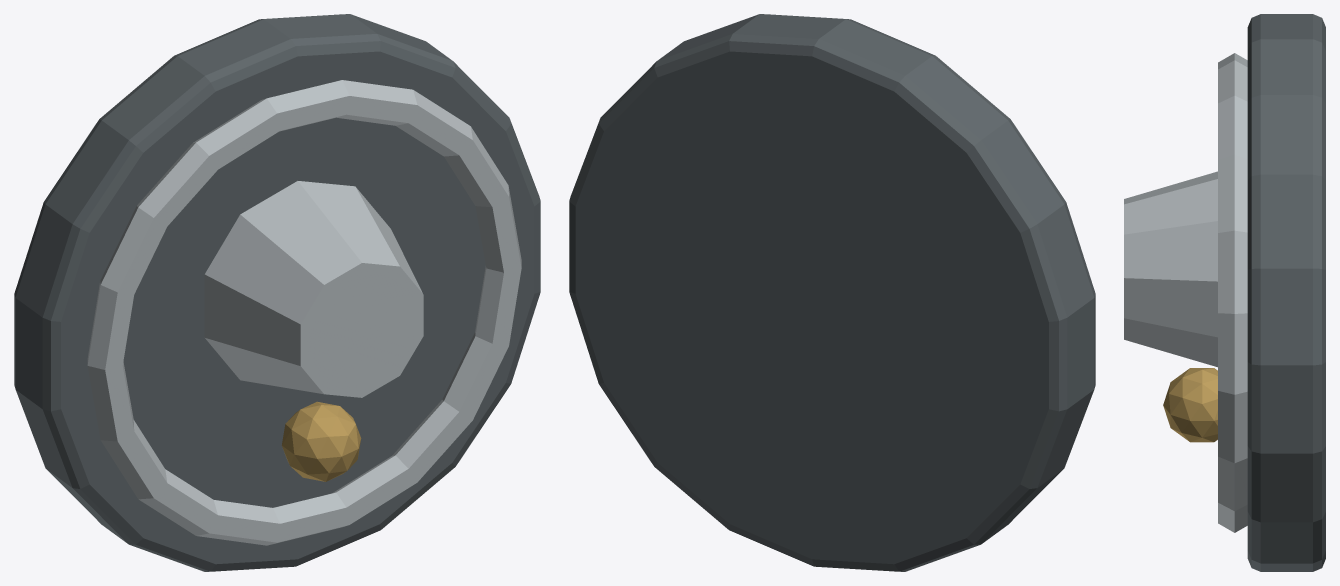
File: item_rook_bell_iron_token.glb
3 renders of one model, left to right at view 1: azimuth 30°, elevation 25°; view 2: azimuth 150°, elevation 25°; view 3: azimuth 270°, elevation 25°, orthographic. The views are drawn at different scales.
Visible parts, largest first — view 1: Bell iron token, Token rim, Raised bell, Bell clapper; view 2: Bell iron token; view 3: Bell iron token, Raised bell, Token rim, Bell clapper.
Boxes of the visible parts, left/top/right/bottom form: Bell iron token: left=14, top=14, right=540, bottom=571; Token rim: left=87, top=80, right=521, bottom=545; Raised bell: left=204, top=181, right=423, bottom=397; Bell clapper: left=281, top=401, right=361, bottom=481; Bell iron token: left=569, top=14, right=1095, bottom=571; Bell iron token: left=1247, top=14, right=1325, bottom=571; Raised bell: left=1124, top=171, right=1217, bottom=367; Token rim: left=1218, top=53, right=1247, bottom=532; Bell clapper: left=1163, top=368, right=1217, bottom=442.
Bounding box in the file's own units: 0.0847 × 0.086 × 0.031.
